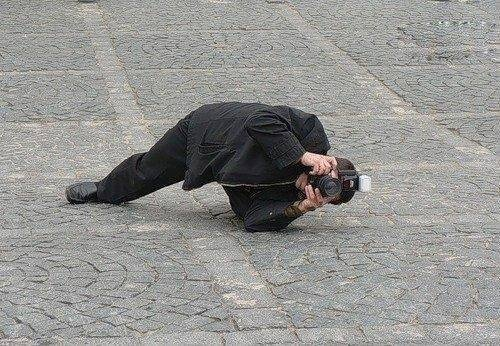falling: (57, 89, 377, 246)
